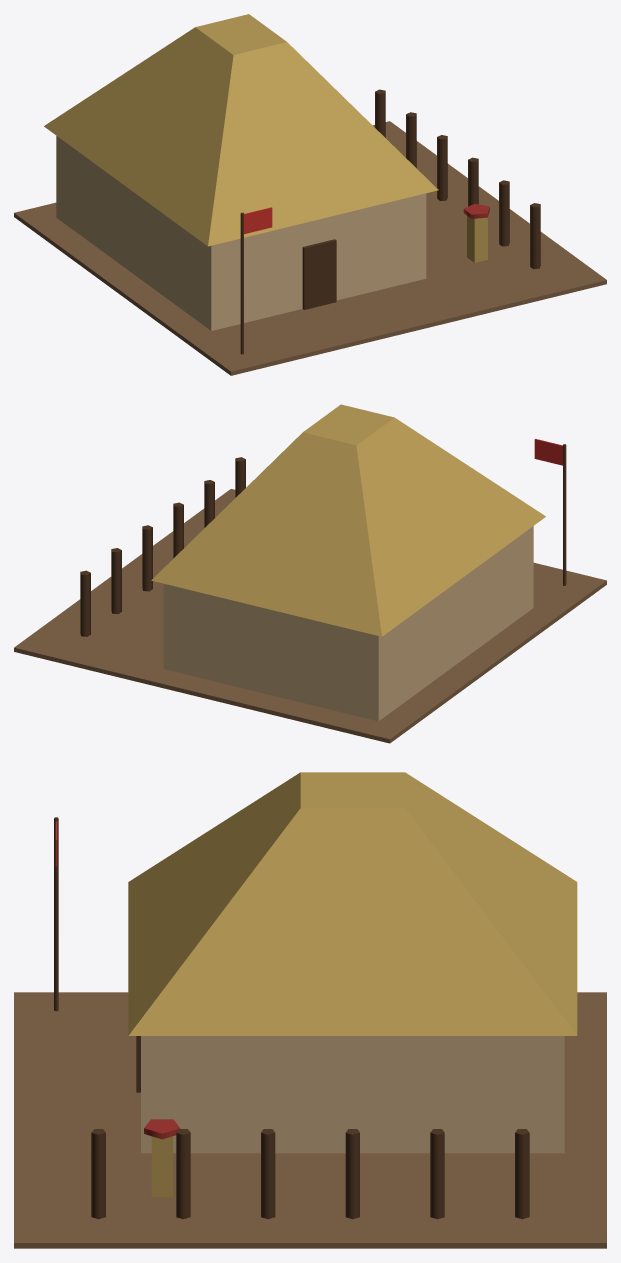
The model's file is bld_special_barracks_a01_lod2.glb.
3 renders of one model, top to bottom at view 1: azimuth 30°, elevation 25°; view 2: azimuth 150°, elevation 25°; view 3: azimuth 270°, elevation 25°, orthographic. The views are drawn at different scales.
Visible parts, largest first — view 1: body; view 2: body; view 3: body.
Boxes of the visible parts, box(x1,y1,x2,y2) form: body: box(14, 14, 606, 375); body: box(14, 404, 606, 743); body: box(14, 772, 606, 1248).
Size of the model in its own units: 14 by 7.75 by 14.
